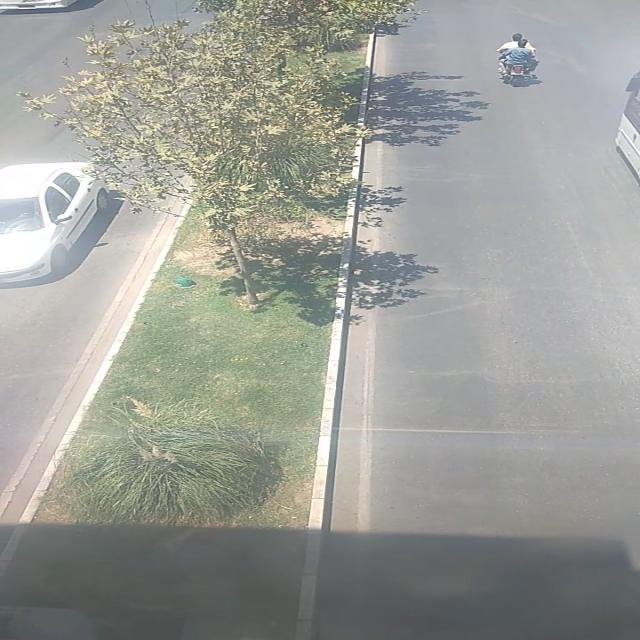car: (0, 161, 109, 284)
motor: (495, 31, 544, 89)
